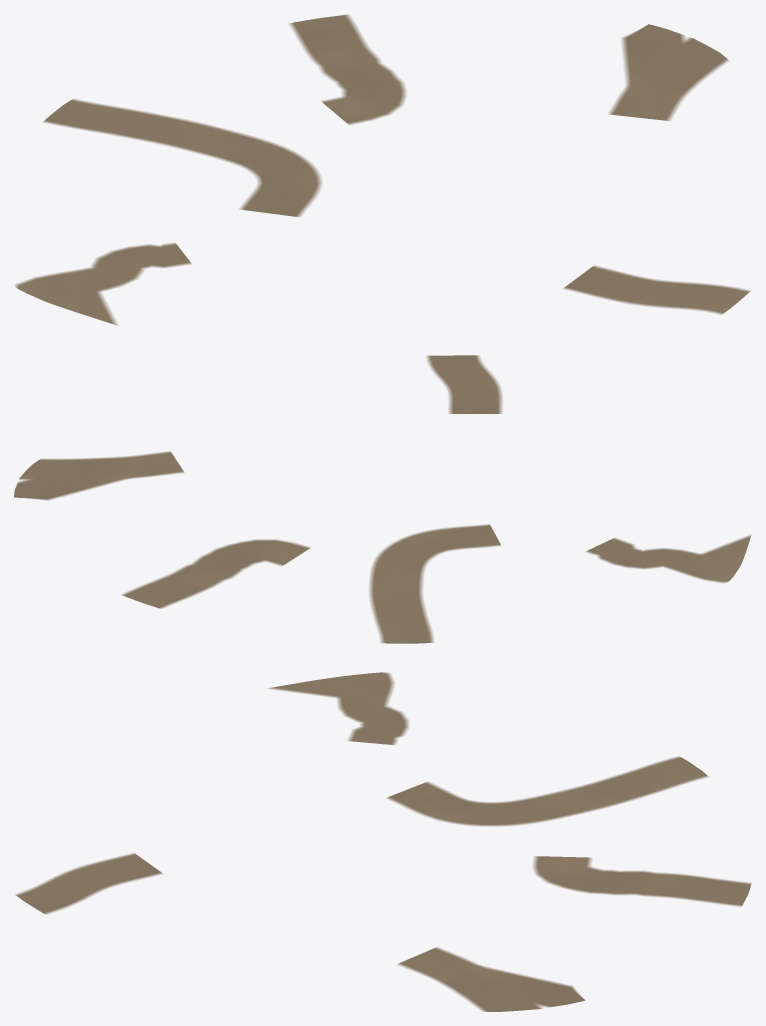
The model's file is paths_main.glb.
3 views of the same model, one above another, from view 1: azimuth 30°, elevation 25°; view 2: azimuth 150°, elevation 25°; view 3: azimuth 270°, elevation 25° (orthographic). The views are drawn at different scales.
Parts seen in each view (by area): view 1: path_to_highland, path_to_orchard, path_to_meadow, path_to_islet, path_to_cottage, path_to_grove, path_to_wetland; view 2: path_to_highland, path_to_orchard, path_to_meadow, path_to_islet, path_to_cottage, path_to_grove, path_to_wetland; view 3: path_to_highland, path_to_orchard, path_to_meadow, path_to_islet, path_to_cottage, path_to_grove, path_to_wetland.
Boxes of the visible parts, x1,y1,x2,y2 form: path_to_highland: [43, 99, 322, 216]; path_to_orchard: [289, 14, 406, 124]; path_to_meadow: [563, 265, 750, 314]; path_to_islet: [608, 37, 728, 120]; path_to_cottage: [15, 242, 191, 305]; path_to_grove: [621, 24, 689, 89]; path_to_wetland: [37, 286, 118, 325]; path_to_highland: [369, 524, 501, 643]; path_to_orchard: [121, 539, 310, 608]; path_to_meadow: [426, 355, 502, 413]; path_to_islet: [19, 451, 184, 480]; path_to_cottage: [585, 537, 738, 582]; path_to_grove: [14, 459, 133, 500]; path_to_wetland: [693, 534, 751, 572]; path_to_highland: [386, 756, 708, 826]; path_to_orchard: [533, 856, 751, 906]; path_to_meadow: [15, 853, 162, 914]; path_to_islet: [397, 947, 542, 1011]; path_to_cottage: [330, 672, 409, 744]; path_to_grove: [450, 965, 585, 1007]; path_to_wetland: [267, 675, 364, 699].
Size of the model in its own units: 18.24 by 0.03 by 16.74.
